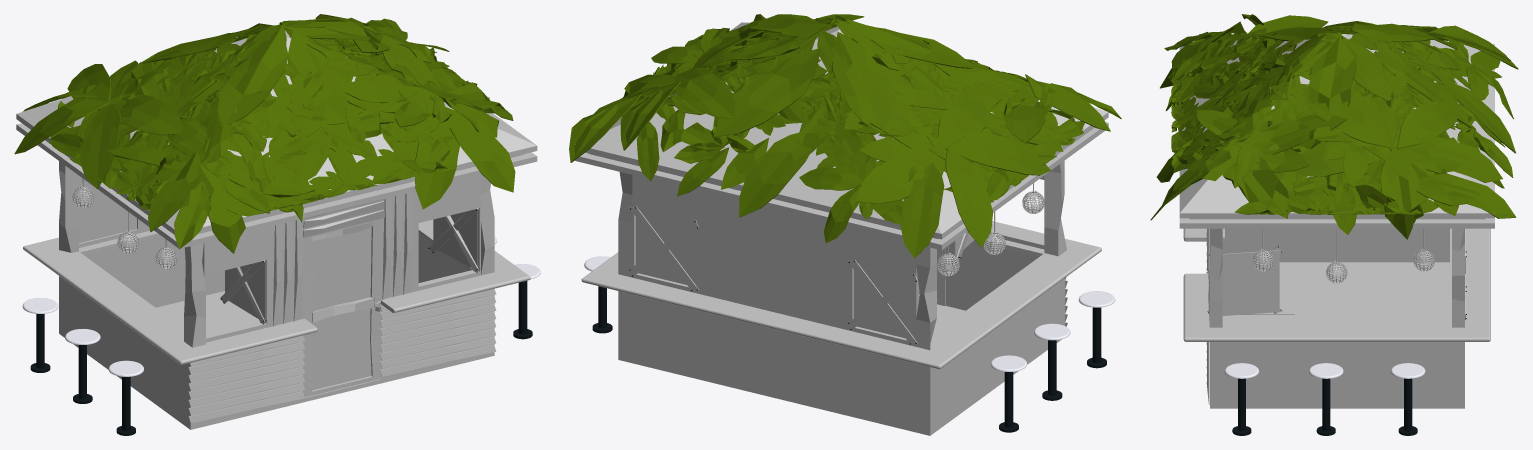
File: bar.fbx
The picture shows the model from 3 angles, left to right: view 1: azimuth 30°, elevation 25°; view 2: azimuth 150°, elevation 25°; view 3: azimuth 270°, elevation 25°; orthographic projection. The views are drawn at different scales.
Visible parts, largest first — view 1: Plane.007, Cube.006, Cube.001, Cube.019, Cube.002, Sphere.001, Circle.009, Circle.008, Circle.007, Circle.012, Cube.005, Cube.004; view 2: Plane.007, Cube.001, Cube.006, Cube.002, Cube.019, Sphere.001, Circle.009, Circle.008, Circle.007, Circle.010; view 3: Plane.007, Cube.001, Cube.006, Cube.002, Cube.019, Sphere.001, Circle.010, Circle.011, Circle.012.
Boxes of the visible parts, x1,y1,x2,y2 form: Plane.007: [14, 14, 515, 253]; Cube.006: [23, 161, 530, 423]; Cube.001: [16, 114, 537, 429]; Cube.019: [79, 179, 477, 322]; Cube.002: [17, 26, 536, 229]; Sphere.001: [72, 186, 177, 269]; Circle.009: [22, 298, 58, 372]; Circle.008: [108, 360, 143, 435]; Circle.007: [65, 328, 100, 403]; Circle.012: [513, 264, 540, 339]; Cube.005: [428, 208, 480, 273]; Cube.004: [220, 260, 266, 324]; Plane.007: [569, 14, 1121, 258]; Cube.001: [575, 112, 1108, 435]; Cube.006: [581, 161, 1101, 369]; Cube.002: [575, 22, 1107, 233]; Cube.019: [636, 210, 974, 338]; Sphere.001: [937, 191, 1044, 276]; Circle.009: [990, 355, 1027, 432]; Circle.008: [1078, 291, 1115, 368]; Circle.007: [1034, 323, 1070, 400]; Circle.010: [584, 256, 612, 333]; Plane.007: [1150, 14, 1518, 239]; Cube.001: [1179, 213, 1494, 408]; Cube.006: [1183, 228, 1490, 404]; Cube.002: [1179, 34, 1494, 213]; Cube.019: [1222, 250, 1279, 315]; Sphere.001: [1252, 250, 1434, 283]; Circle.010: [1391, 363, 1425, 435]; Circle.011: [1309, 363, 1343, 435]; Circle.012: [1224, 363, 1259, 435].
Size of the model in its own units: 562 by 404 by 434.
